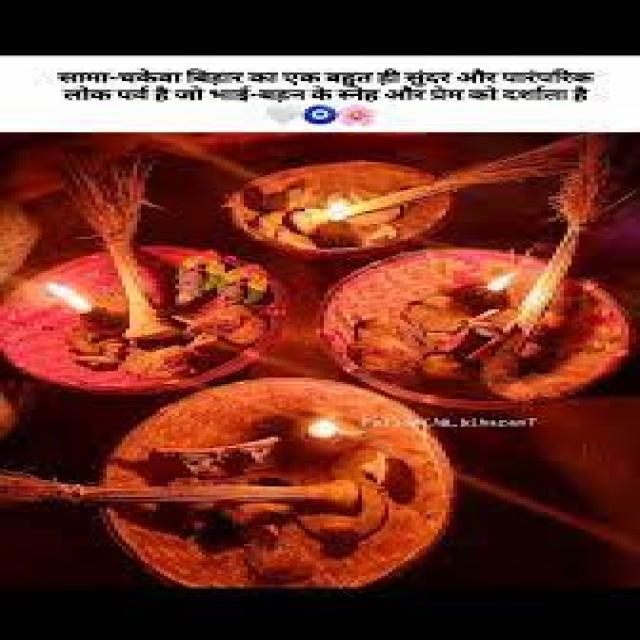fire: (48, 282, 91, 314)
